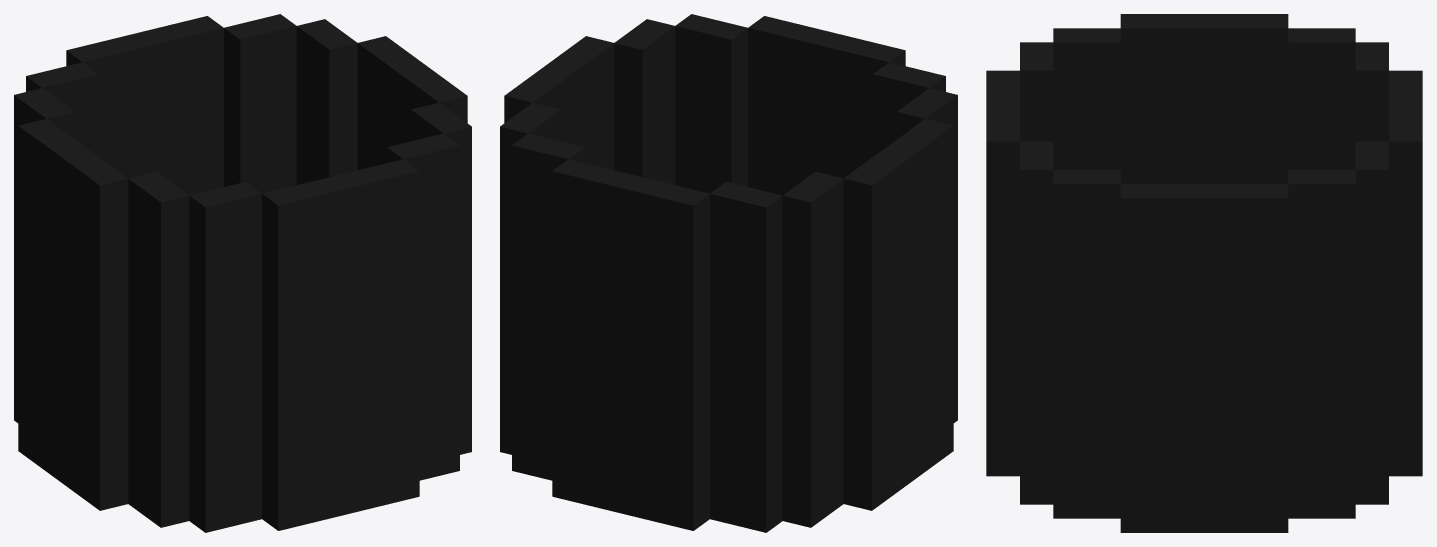
The model's file is Bin.obj.
3 renders of one model, left to right at view 1: azimuth 30°, elevation 25°; view 2: azimuth 150°, elevation 25°; view 3: azimuth 270°, elevation 25°, orthographic. The views are drawn at different scales.
Bounding box in the file's own units: 1.3 × 1.1 × 1.3.
1 material, 1 textured.
